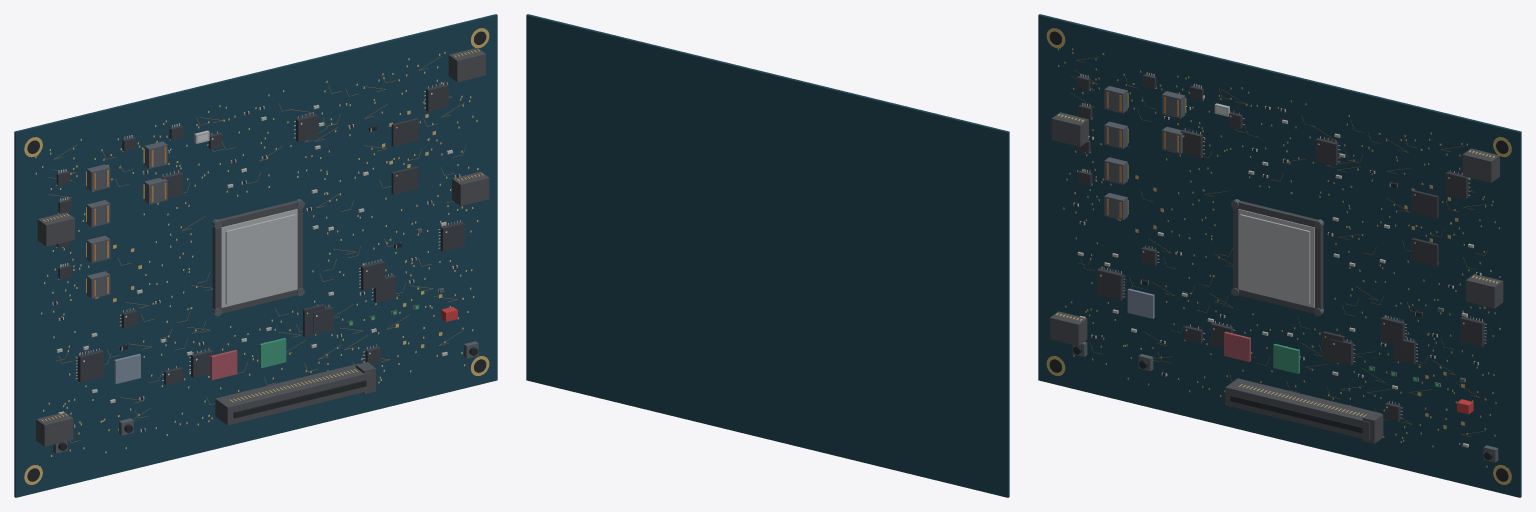
File: L107_PFX15_CompletedVisualReference.glb
3 views of the same model, side by side, from view 1: azimuth 30°, elevation 25°; view 2: azimuth 150°, elevation 25°; view 3: azimuth 330°, elevation 25° (orthographic).
Visible parts, largest first — view 1: 1280_PCB, 2228_ALUMINUM, 2229_PLASTIC, 2025_PLASTIC, 2026_ALUMINUM, 1128_PLASTIC, 1094_PLASTIC, 1145_PLASTIC, 1111_PLASTIC, 2230_BLACK, 640_EPOXY, Phoenix_PRIMARY_U6 (+10 smaller); view 2: 1280_PCB; view 3: 1280_PCB, 2228_ALUMINUM, 2229_PLASTIC, 2025_PLASTIC, 2026_ALUMINUM, 1128_PLASTIC, 1094_PLASTIC, 1145_PLASTIC, 1111_PLASTIC, 2230_BLACK, 640_EPOXY, Phoenix_RECOVERY_EC_U5 (+13 smaller).
Part boxes in pixels (bbox=[...]): 1280_PCB: bbox=[14, 14, 497, 497]; 2228_ALUMINUM: bbox=[225, 214, 295, 304]; 2229_PLASTIC: bbox=[215, 363, 371, 425]; 2025_PLASTIC: bbox=[212, 200, 302, 313]; 2026_ALUMINUM: bbox=[221, 209, 297, 307]; 1128_PLASTIC: bbox=[448, 48, 485, 82]; 1094_PLASTIC: bbox=[37, 212, 74, 246]; 1145_PLASTIC: bbox=[452, 171, 489, 205]; 1111_PLASTIC: bbox=[36, 412, 73, 446]; 2230_BLACK: bbox=[233, 380, 366, 418]; 640_EPOXY: bbox=[77, 350, 103, 382]; Phoenix_PRIMARY_U6: bbox=[210, 350, 237, 380]; 1280_PCB: bbox=[526, 14, 1009, 497]; 1280_PCB: bbox=[1038, 14, 1521, 497]; 2228_ALUMINUM: bbox=[1240, 214, 1310, 304]; 2229_PLASTIC: bbox=[1225, 378, 1381, 440]; 2025_PLASTIC: bbox=[1233, 200, 1323, 313]; 2026_ALUMINUM: bbox=[1238, 209, 1314, 307]; 1128_PLASTIC: bbox=[1462, 148, 1499, 182]; 1094_PLASTIC: bbox=[1051, 112, 1088, 146]; 1145_PLASTIC: bbox=[1466, 274, 1503, 308]; 1111_PLASTIC: bbox=[1050, 311, 1087, 345]; 2230_BLACK: bbox=[1230, 395, 1362, 433]; 640_EPOXY: bbox=[1097, 268, 1123, 300]; Phoenix_RECOVERY_EC_U5: bbox=[1127, 288, 1154, 318].
Bounding box in the file's own units: 0.29 × 0.21 × 0.0156.
